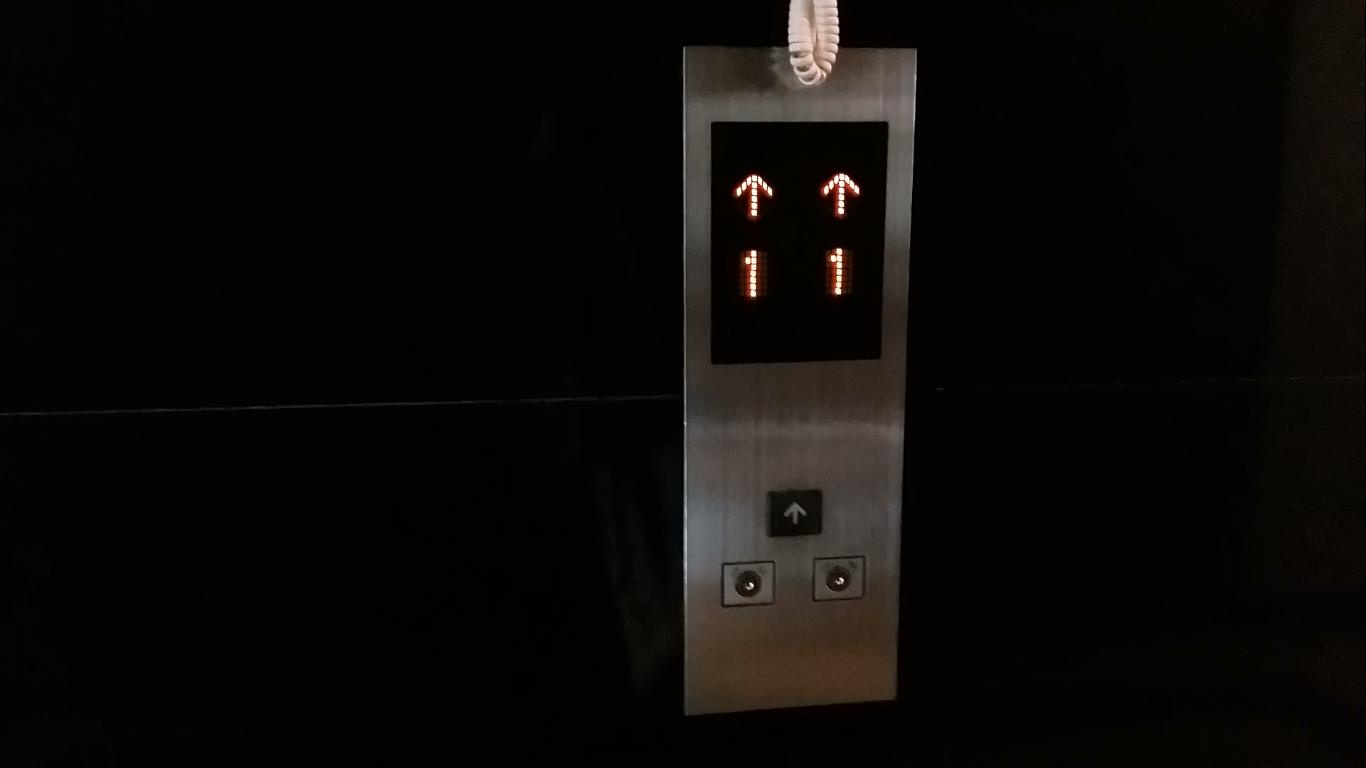bt_keyhole: (810, 553, 866, 607), (718, 558, 776, 609)
led: (707, 117, 885, 367)
up: (763, 487, 825, 541)
